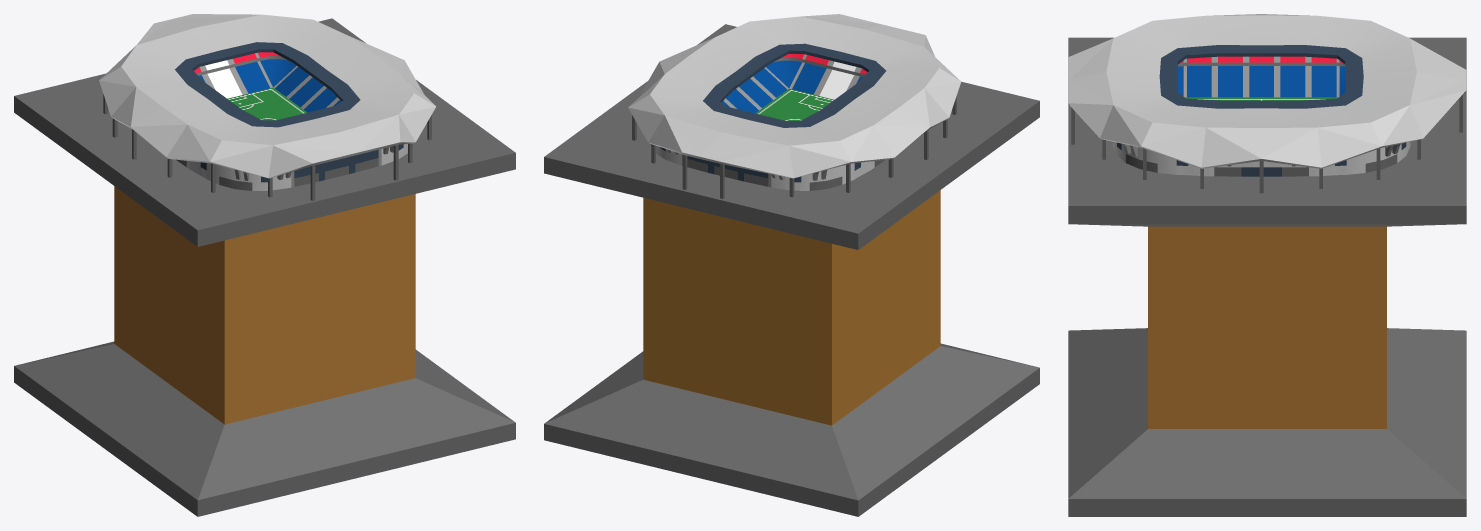
The model's file is FSt_Fra_003.FBX.
3 renders of one model, left to right at view 1: azimuth 30°, elevation 25°; view 2: azimuth 150°, elevation 25°; view 3: azimuth 270°, elevation 25°, orthographic. The views are drawn at different scales.
Visible parts, largest first — view 1: FSt_Fra_003; view 2: FSt_Fra_003; view 3: FSt_Fra_003.
Part boxes in pixels (bbox=[...]): FSt_Fra_003: bbox=[14, 14, 515, 516]; FSt_Fra_003: bbox=[544, 14, 1039, 516]; FSt_Fra_003: bbox=[1068, 14, 1466, 516].
Bounding box in the file's own units: 1000 × 1000 × 1000.
